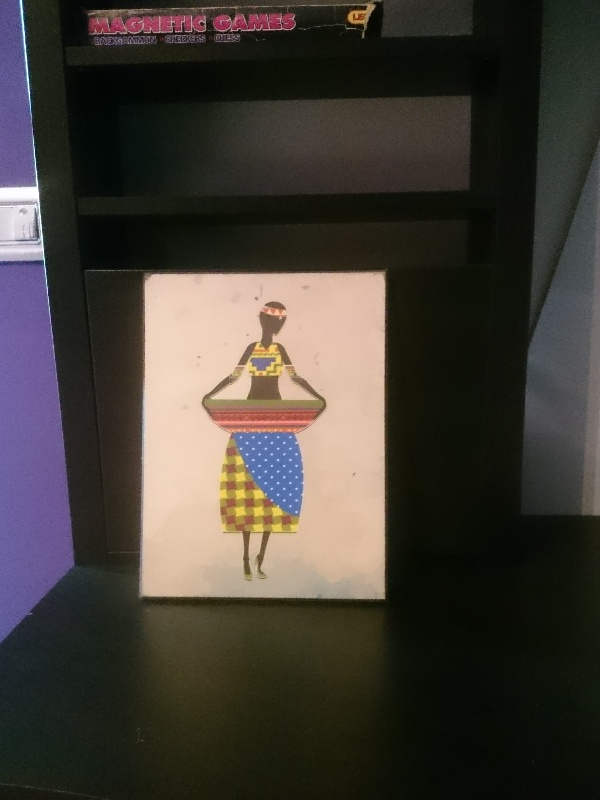my image: (140, 271, 385, 599)
